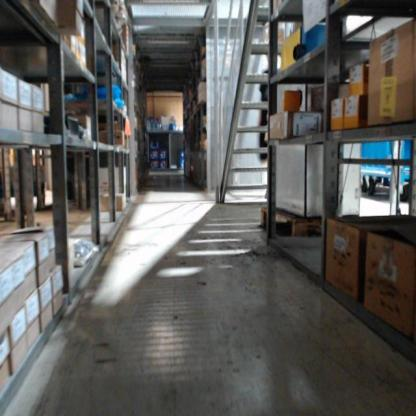pallet: (259, 204, 325, 241)
